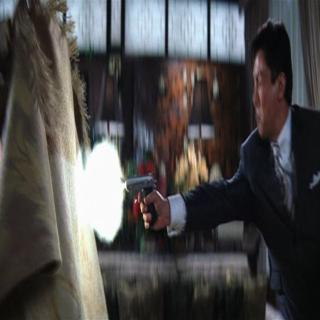gun: (125, 171, 162, 230)
